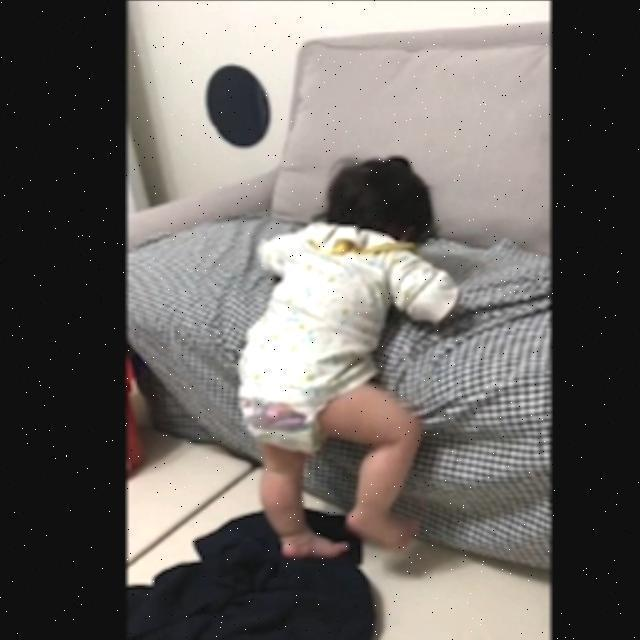child: (240, 155, 459, 560)
